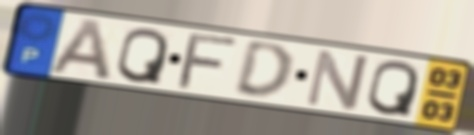A: (46, 16, 115, 82)
D: (231, 40, 296, 102)
F: (173, 32, 244, 92)
N: (302, 47, 373, 113)
Q: (113, 26, 172, 86), (364, 58, 422, 119)
